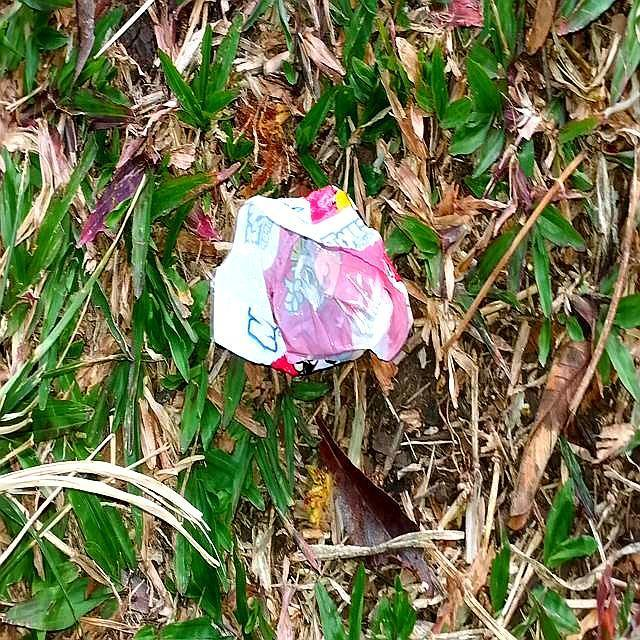Non-biodegradable: (209, 184, 415, 379)
